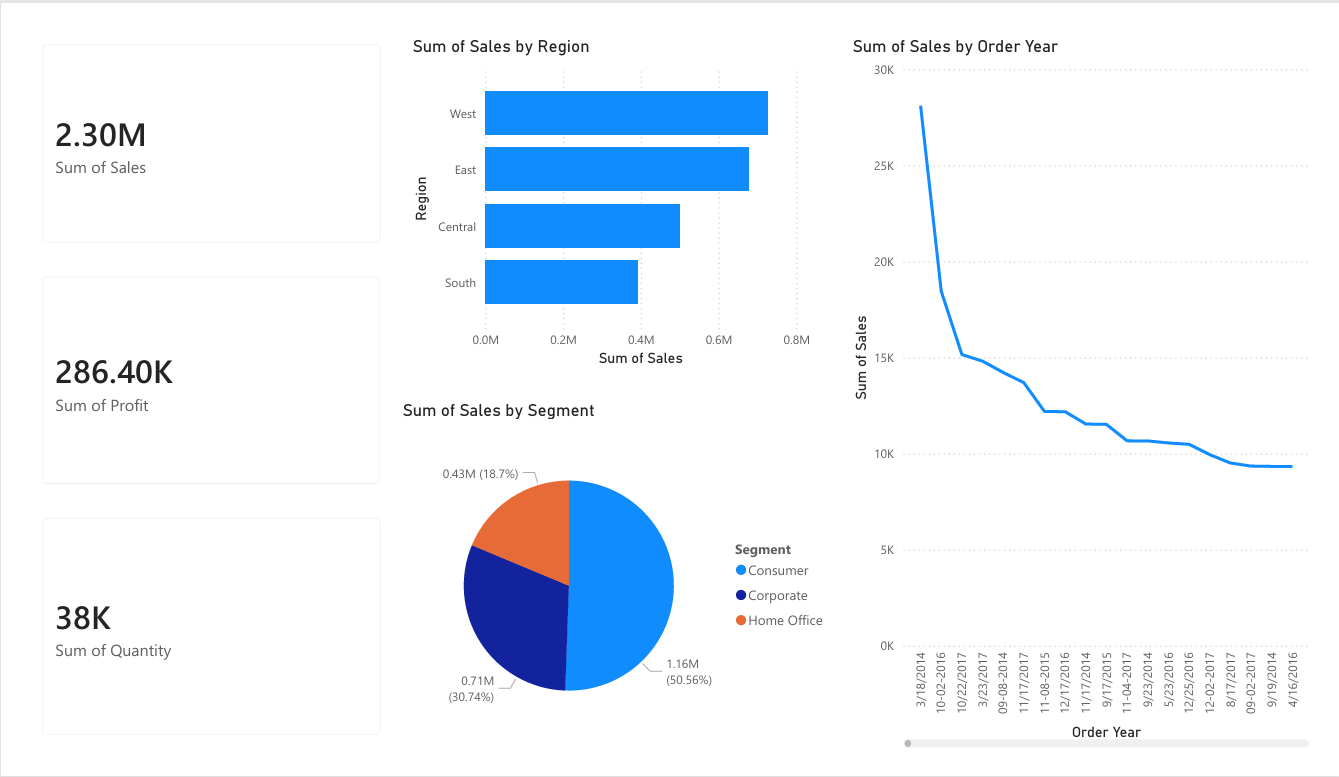

This screenshot's page, from the dashboard's own definition file:
{"tool":"powerbi","page":{"name":"Page 1","canvas":[1280,720],"ordinal":0},"visuals":[{"type":"cardVisual","fields":{"Data":["Sum(Sample - Superstore.Sales)"]},"box":[0,0,370.4,230.6],"z":0},{"type":"cardVisual","fields":{"Data":["Sum(Sample - Superstore.Profit)"]},"box":[0,230.6,368.5,240],"z":1000},{"type":"cardVisual","fields":{"Data":["Sum(Sample - Superstore.Quantity)"]},"box":[0,470.6,370.4,249.5],"z":2000},{"type":"barChart","fields":{"Category":["Sample - Superstore.Region"],"Y":["Sum(Sample - Superstore.Sales)"]},"box":[380.4,9,404.3,332.7],"z":3000},{"type":"pieChart","fields":{"Category":["Sample - Superstore.Segment"],"Y":["Sum(Sample - Superstore.Sales)"]},"box":[370,370,437.1,350.6],"z":4000},{"type":"lineChart","fields":{"Category":["Sample - Superstore.Order Date"],"Y":["Sum(Sample - Superstore.Sales)"]},"box":[817.5,9,462.4,711.6],"z":5000}]}

Visuals, with their boxes on the page's 1280x720 design canvas (x1, y1, x2, y2). These are canvas units, not pixel positions in the 1339x777 screenshot, which may show the page scaled, cropped or inside an application window:
cardVisual - Sum(Sample - Superstore.Sales): [0,0,370,231]
cardVisual - Sum(Sample - Superstore.Profit): [0,231,368,471]
cardVisual - Sum(Sample - Superstore.Quantity): [0,471,370,720]
barChart - Sample - Superstore.Region x Sum(Sample - Superstore.Sales): [380,9,785,342]
pieChart - Sample - Superstore.Segment x Sum(Sample - Superstore.Sales): [370,370,807,721]
lineChart - Sample - Superstore.Order Date x Sum(Sample - Superstore.Sales): [818,9,1280,721]
